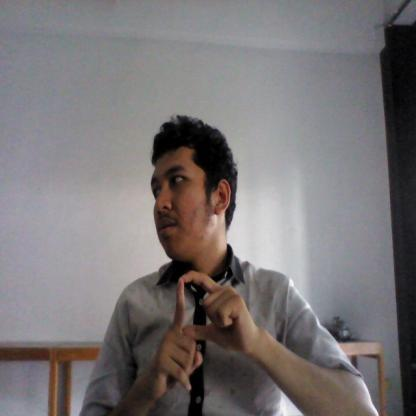D: (147, 266, 262, 405)
